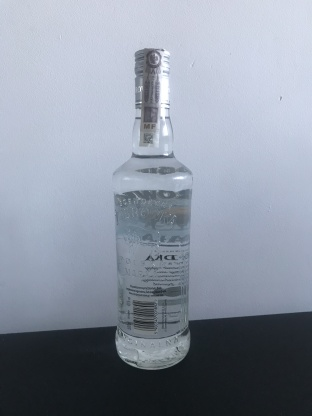nakretka: (132, 43, 172, 112)
